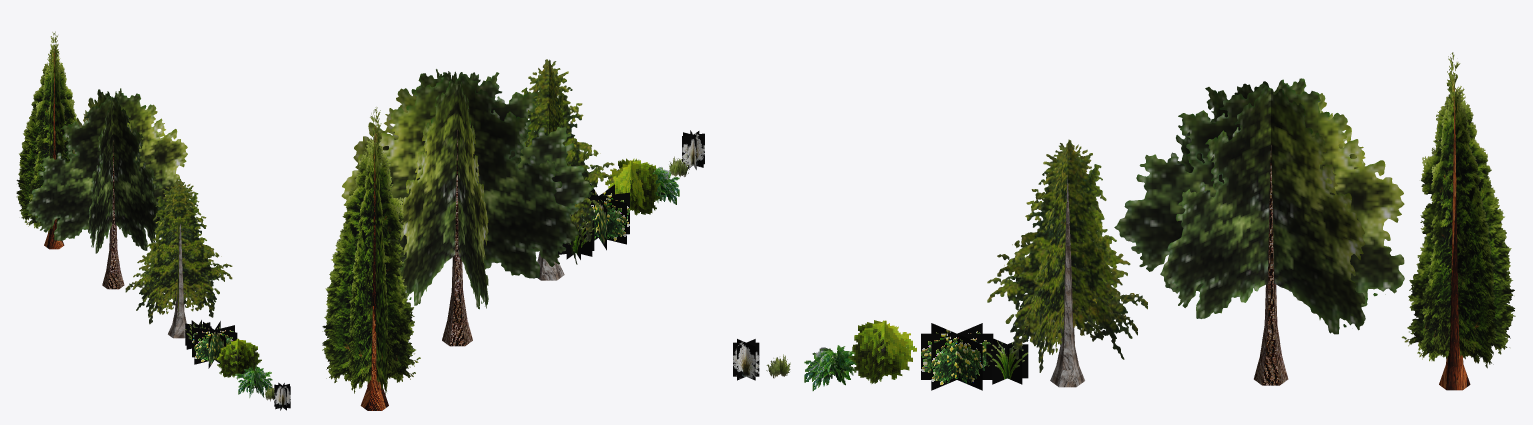
Rendered from arbusto.fbx.
3 views of the same model, side by side, from view 1: azimuth 30°, elevation 25°; view 2: azimuth 150°, elevation 25°; view 3: azimuth 270°, elevation 25° (orthographic). The views are drawn at different scales.
Parts seen in each view (by area): view 1: Cylinder, arbol.001, Cylinder.001, arbusto3.001, arbusto2.002, planta1.003, grass2, arbusto4.007; view 2: Cylinder, Cylinder.001, arbol.001, arbusto2.002, arbusto3.001, grass2, planta1.003, arbusto4.007; view 3: Cylinder, Cylinder.001, arbol.001, arbusto3.001, arbusto2.002, arbusto4.007, planta1.003, grass2.
Boxes of the visible parts, bbox=[...] form: Cylinder: bbox=[26, 88, 187, 289]; arbol.001: bbox=[125, 179, 232, 338]; Cylinder.001: bbox=[16, 31, 76, 249]; arbusto3.001: bbox=[192, 321, 237, 368]; arbusto2.002: bbox=[216, 338, 261, 379]; planta1.003: bbox=[235, 366, 272, 397]; grass2: bbox=[274, 382, 290, 410]; arbusto4.007: bbox=[185, 320, 211, 349]; Cylinder: bbox=[341, 69, 593, 346]; Cylinder.001: bbox=[322, 107, 420, 410]; arbol.001: bbox=[521, 59, 614, 280]; arbusto2.002: bbox=[605, 158, 660, 215]; arbusto3.001: bbox=[570, 184, 629, 250]; grass2: bbox=[682, 130, 704, 169]; planta1.003: bbox=[652, 167, 679, 204]; arbusto4.007: bbox=[558, 215, 594, 259]; Cylinder: bbox=[1114, 78, 1404, 385]; Cylinder.001: bbox=[1401, 52, 1515, 390]; arbol.001: bbox=[987, 139, 1147, 387]; arbusto3.001: bbox=[921, 323, 993, 390]; arbusto2.002: bbox=[848, 320, 916, 383]; arbusto4.007: bbox=[986, 338, 1028, 384]; planta1.003: bbox=[804, 345, 856, 390]; grass2: bbox=[733, 339, 759, 380].
Bounding box in the file's own units: 803 × 978 × 2093.
12 materials, 12 textured.
